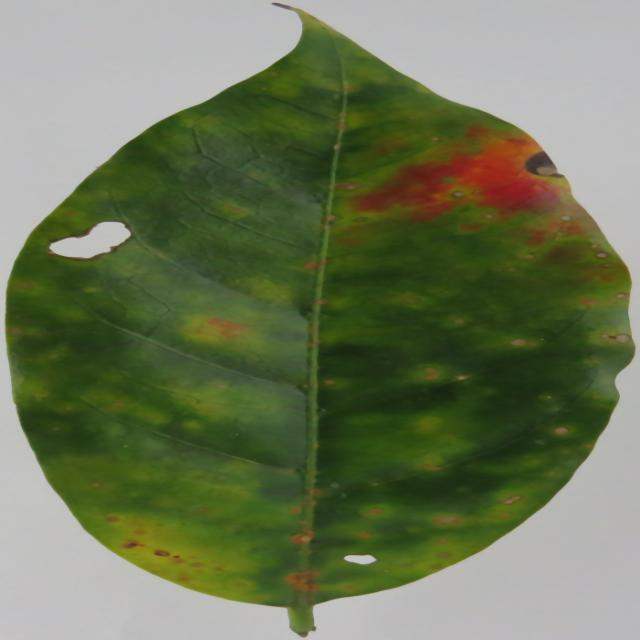DeficienciaNutricional-Fosforo: (8, 10, 634, 634)
